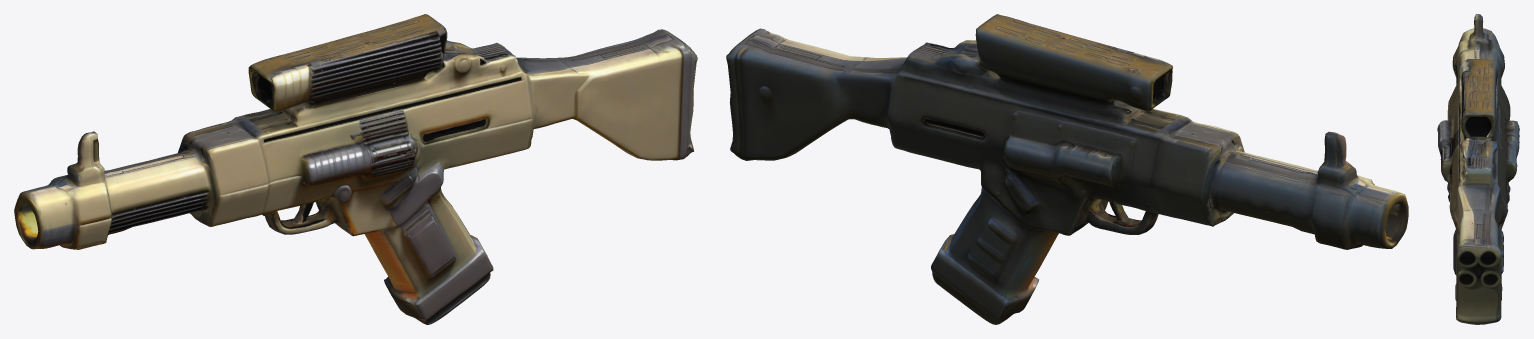
File: rifle.fbx
The picture shows the model from 3 angles, left to right: view 1: azimuth 30°, elevation 25°; view 2: azimuth 150°, elevation 25°; view 3: azimuth 270°, elevation 25°; orthographic projection. The views are drawn at different scales.
Visible parts, largest first — view 1: Mesh_0; view 2: Mesh_0; view 3: Mesh_0.
Part boxes in pixels (left/top/right/bottom): Mesh_0: left=14, top=14, right=697, bottom=324; Mesh_0: left=726, top=14, right=1408, bottom=324; Mesh_0: left=1437, top=14, right=1519, bottom=324.
Bounding box in the file's own units: 200 × 86.59 × 31.4.
1 material, 1 textured.
